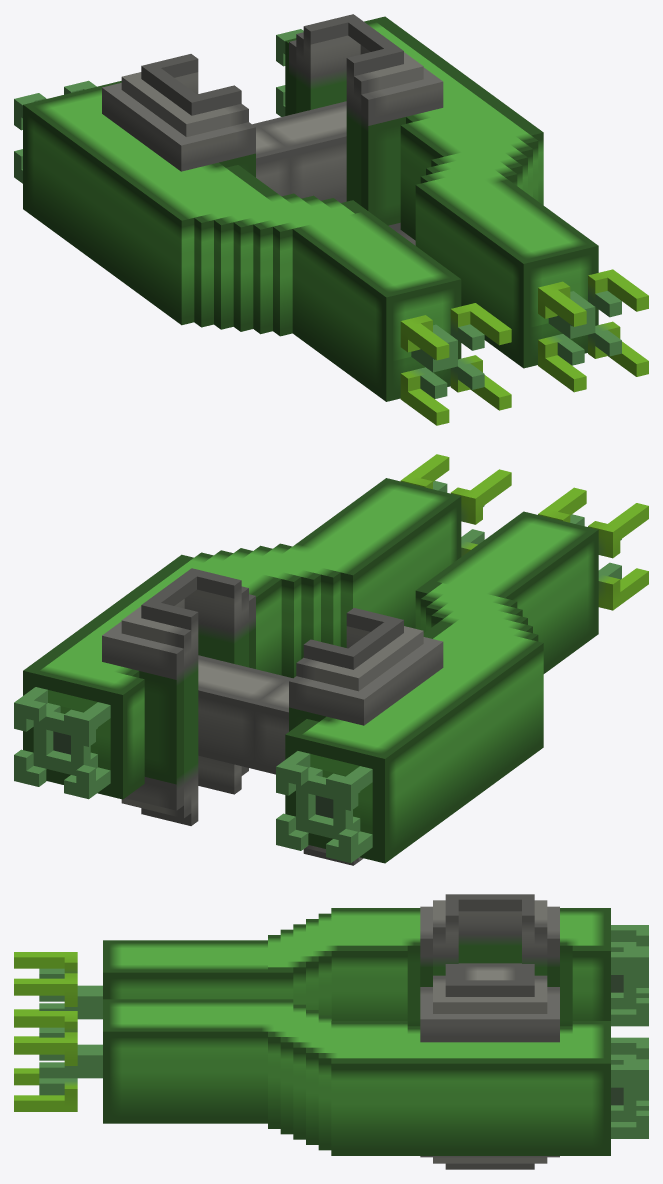
File: GreenBasicV1.4.dae
The picture shows the model from 3 angles, top to bottom: view 1: azimuth 30°, elevation 25°; view 2: azimuth 150°, elevation 25°; view 3: azimuth 270°, elevation 25°; orthographic projection. The views are drawn at different scales.
Visible parts, largest first — view 1: GreenBasicV1.4; view 2: GreenBasicV1.4; view 3: GreenBasicV1.4.
Part boxes in pixels (x1=…): GreenBasicV1.4: x1=14, y1=14, x2=648, y2=425; GreenBasicV1.4: x1=14, y1=454, x2=648, y2=865; GreenBasicV1.4: x1=14, y1=894, x2=648, y2=1169.
Bounding box in the file's own units: 29 × 16 × 50.
Materials: 1 (1 with a texture image).
